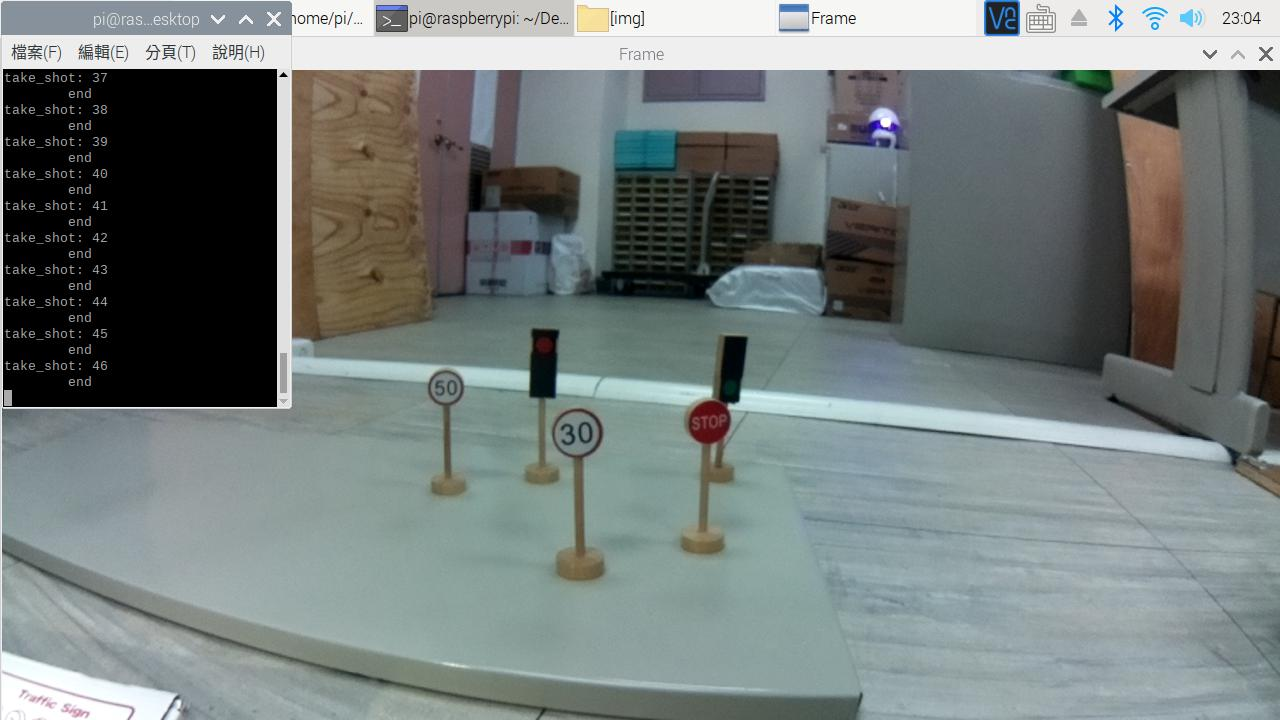Green: (720, 336, 746, 398)
Red: (535, 327, 561, 398)
Speed30: (555, 411, 607, 462)
Speed50: (429, 370, 464, 407)
Stop: (684, 398, 736, 447)
